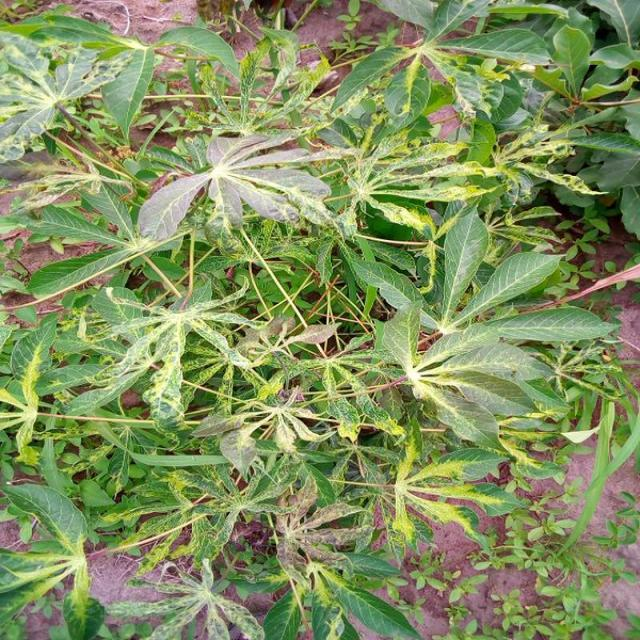cassava leaf: (1, 2, 636, 638), (136, 130, 333, 248)
